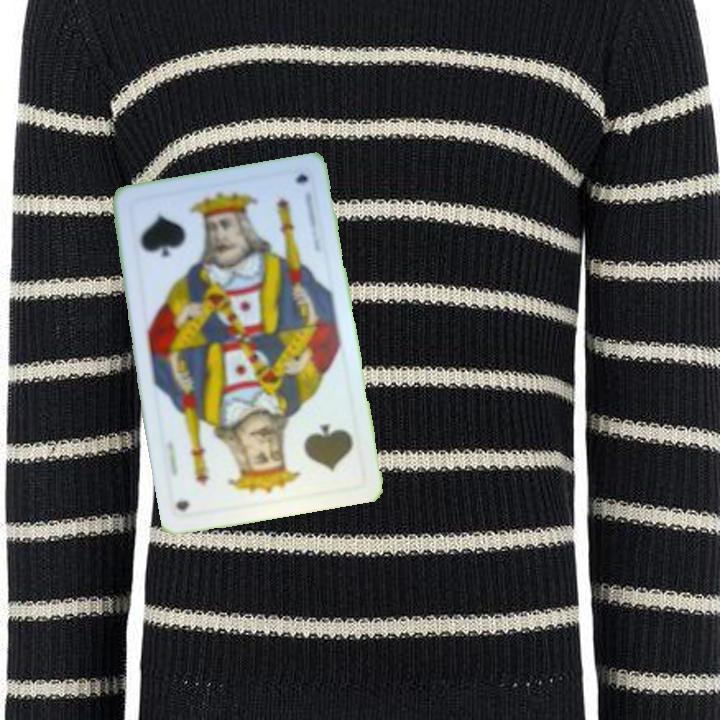s_k.png: (121, 186, 234, 287), (254, 402, 367, 503)
